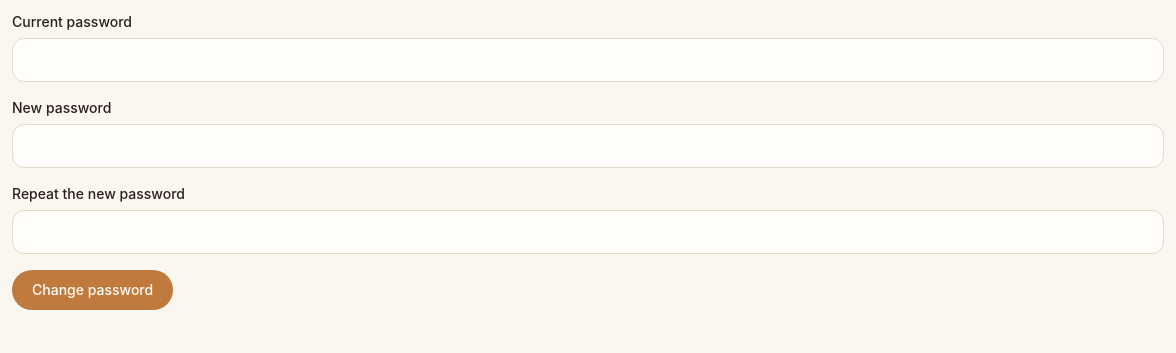
Test case: ChangePasswordForm › flags a too-short new password
Type "old-password" into the password field labelled "Current password".
click(588, 60); type("old-password")  # box [12,38,1164,82]
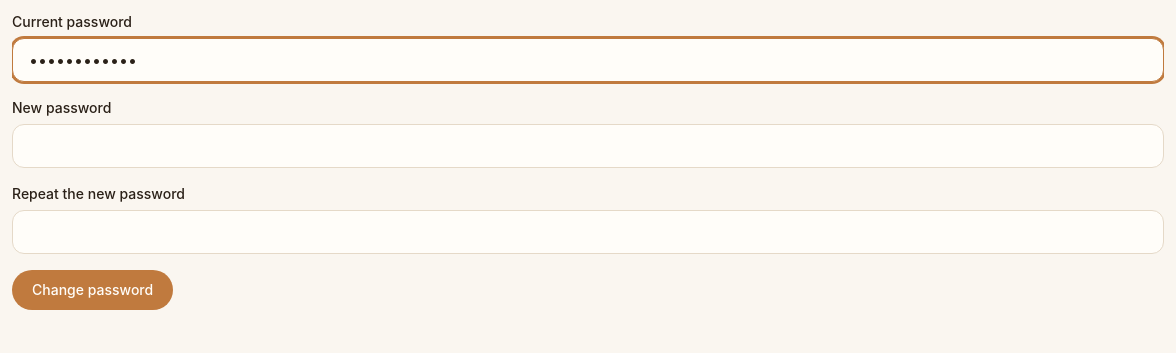
Type "short" into the password field labelled "New password".
click(588, 146); type("short")  # box [12,124,1164,168]
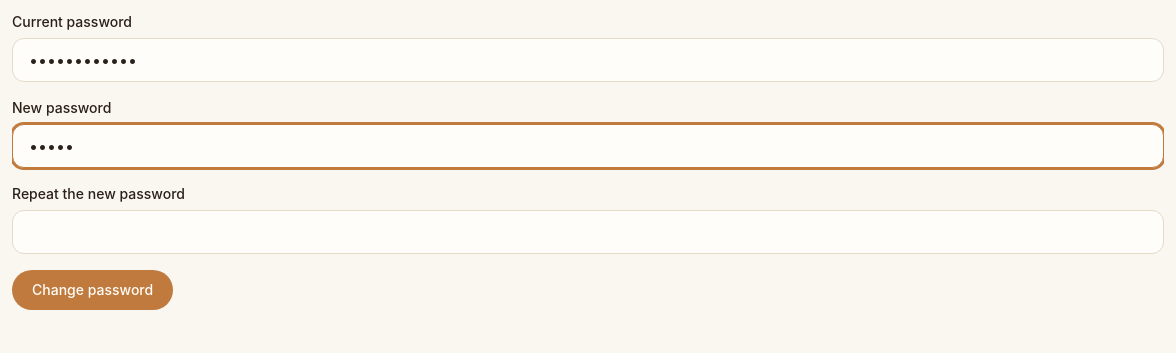
Type "short" into the password field labelled "Repeat the new password".
click(588, 232); type("short")  # box [12,210,1164,254]
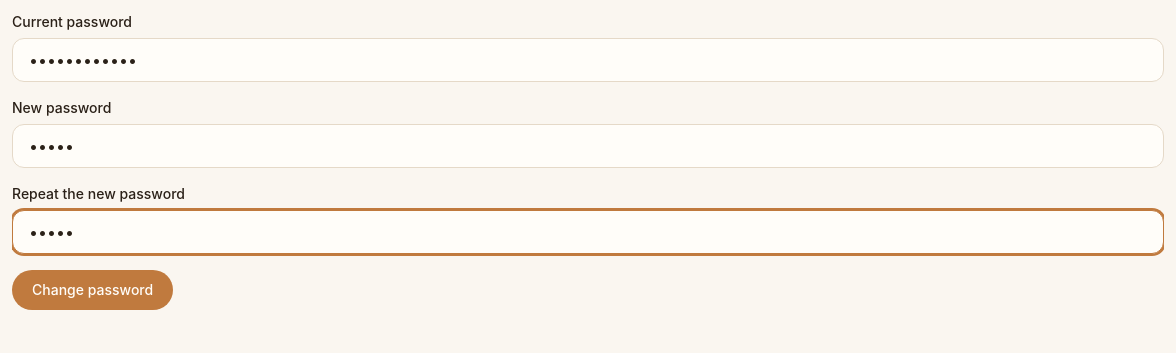
Click the button "Change password".
click(93, 290)  # box [12,270,173,310]
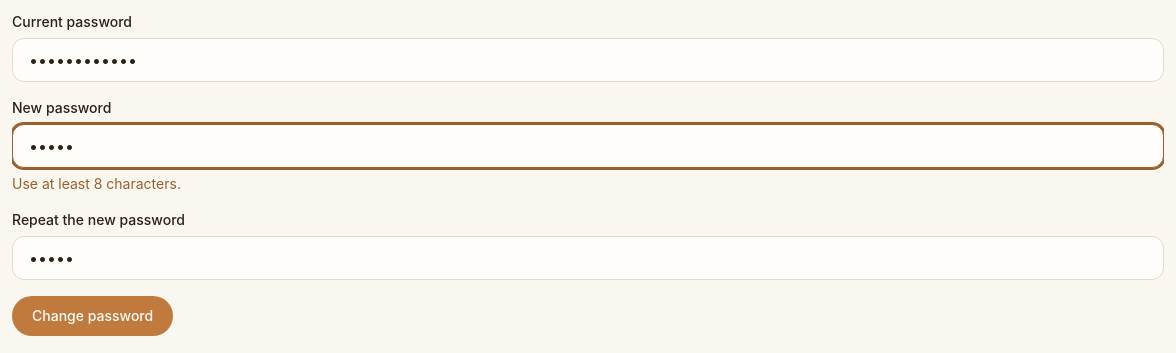
Expected: the message reads "Use at least 8 characters.", [12,175,181,192]
